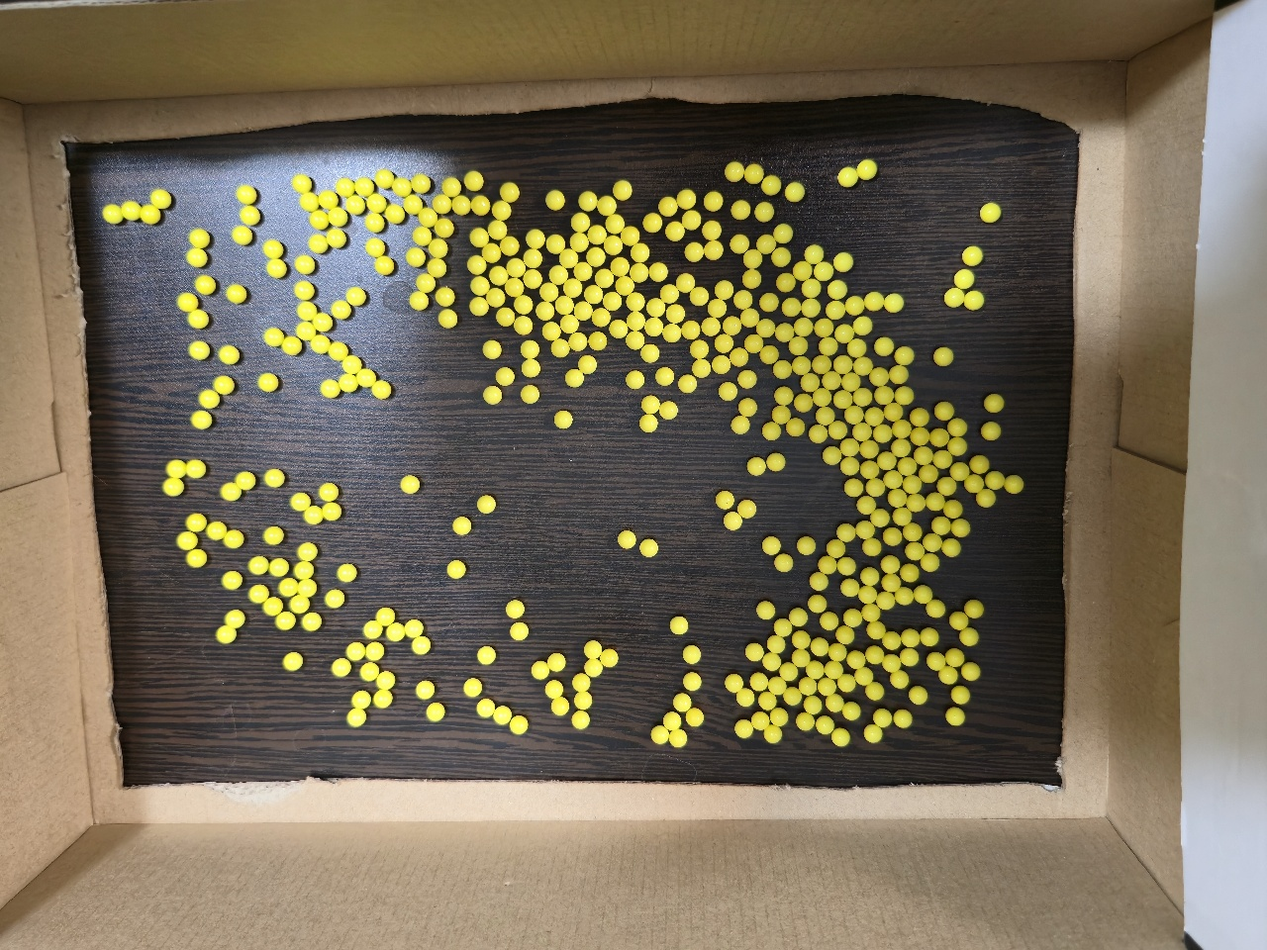yellow_bead: (221, 614, 241, 639), (193, 344, 206, 356), (154, 193, 167, 205), (296, 178, 308, 191), (861, 163, 873, 176), (301, 305, 313, 317), (420, 277, 432, 289), (837, 256, 849, 268), (267, 243, 279, 255), (422, 212, 434, 224), (244, 210, 256, 222), (389, 208, 401, 220), (984, 207, 996, 219), (407, 199, 419, 211), (349, 199, 361, 211), (842, 171, 854, 183), (252, 589, 265, 600), (181, 535, 194, 546), (210, 525, 223, 536), (195, 415, 208, 426), (203, 394, 216, 405), (218, 380, 231, 391), (223, 349, 236, 360), (193, 233, 206, 244), (350, 712, 362, 723), (355, 695, 367, 706), (377, 693, 388, 705), (287, 656, 299, 667), (329, 594, 341, 605), (227, 575, 239, 586), (252, 560, 264, 571), (301, 546, 313, 557), (267, 530, 279, 541), (307, 510, 319, 521), (323, 487, 335, 498), (262, 377, 274, 388), (345, 359, 357, 370), (333, 345, 344, 357), (314, 338, 326, 349), (317, 317, 329, 328), (192, 314, 204, 325), (968, 295, 980, 306), (414, 295, 425, 307), (948, 292, 960, 303), (439, 291, 450, 303), (475, 280, 486, 292), (958, 273, 969, 285), (553, 269, 564, 281), (378, 260, 390, 271), (299, 259, 311, 270), (191, 252, 203, 263), (410, 251, 421, 263), (608, 239, 619, 251), (761, 238, 772, 250), (550, 238, 561, 250), (369, 217, 380, 229), (107, 208, 118, 220), (759, 206, 770, 218), (602, 200, 613, 212), (371, 197, 382, 209), (241, 189, 252, 201), (446, 181, 457, 193), (359, 181, 370, 193), (468, 175, 479, 187), (379, 173, 390, 185), (293, 600, 306, 610), (294, 497, 307, 507), (225, 487, 238, 497), (304, 195, 314, 208), (467, 683, 478, 694), (380, 676, 391, 687), (350, 646, 361, 657), (416, 640, 427, 651), (390, 626, 401, 637), (367, 624, 378, 635), (274, 562, 285, 573), (817, 392, 828, 403), (879, 390, 890, 401), (361, 372, 372, 383), (525, 344, 536, 355), (879, 341, 890, 352), (648, 322, 659, 333), (857, 321, 868, 332), (518, 320, 529, 331), (670, 309, 681, 320), (830, 305, 841, 316), (806, 303, 817, 314), (849, 300, 860, 311), (559, 300, 570, 311), (889, 298, 900, 309), (869, 296, 880, 307), (607, 296, 618, 307), (490, 292, 501, 303), (694, 291, 705, 302), (350, 291, 361, 302), (832, 284, 843, 295), (567, 283, 578, 294), (509, 282, 520, 293), (493, 270, 504, 281), (818, 266, 829, 277), (271, 263, 282, 274), (511, 262, 522, 273), (615, 261, 626, 272), (471, 259, 482, 270), (563, 253, 574, 264), (776, 251, 787, 262), (967, 250, 978, 261), (809, 249, 820, 260), (486, 247, 497, 258), (689, 246, 700, 257), (370, 242, 381, 253), (504, 240, 515, 251), (734, 238, 745, 249), (313, 238, 324, 249), (331, 233, 342, 244), (474, 232, 485, 243), (237, 230, 248, 241), (670, 226, 681, 237), (707, 225, 718, 236), (492, 225, 503, 236), (610, 219, 621, 230), (647, 218, 658, 229), (735, 205, 746, 216), (504, 187, 515, 198), (766, 180, 777, 191), (416, 178, 427, 189), (306, 617, 318, 627), (267, 602, 279, 612), (298, 565, 310, 575), (228, 534, 240, 544), (404, 480, 416, 490), (268, 473, 280, 483), (190, 464, 202, 474), (375, 385, 387, 395), (286, 341, 298, 351), (300, 326, 312, 336), (631, 315, 641, 327), (182, 297, 194, 307), (231, 289, 243, 299), (528, 273, 538, 285), (433, 242, 443, 254), (333, 211, 343, 223), (497, 205, 507, 217), (126, 205, 136, 217), (663, 201, 673, 213), (749, 168, 759, 180), (190, 555, 203, 564), (167, 483, 180, 492), (576, 714, 586, 725), (497, 711, 508, 721), (364, 667, 375, 677), (589, 662, 599, 673), (370, 646, 380, 657), (409, 623, 419, 634), (510, 605, 521, 615), (282, 583, 293, 593), (341, 568, 352, 578), (451, 564, 461, 575), (327, 507, 338, 517), (481, 500, 492, 510), (240, 476, 251, 486), (170, 464, 181, 474), (903, 461, 913, 472), (869, 412, 880, 422), (849, 410, 859, 421), (663, 406, 674, 416), (806, 377, 816, 388), (827, 375, 837, 386), (659, 372, 670, 382), (500, 372, 511, 382), (778, 364, 788, 375), (857, 361, 868, 371), (838, 359, 848, 370), (717, 359, 727, 370), (583, 359, 593, 370), (939, 351, 949, 362), (900, 350, 910, 361), (487, 344, 497, 355), (851, 343, 862, 353), (794, 340, 804, 351), (719, 338, 730, 348), (573, 336, 583, 347), (268, 332, 279, 342), (799, 322, 809, 333), (442, 314, 453, 324), (501, 312, 511, 323), (578, 306, 588, 317), (540, 306, 550, 317), (336, 305, 346, 316), (713, 303, 723, 314), (650, 303, 661, 313), (787, 302, 797, 313), (474, 301, 484, 312), (764, 297, 774, 308), (589, 289, 599, 300), (544, 287, 554, 298), (720, 285, 730, 296), (807, 283, 817, 294), (621, 280, 631, 291), (600, 273, 610, 284), (634, 267, 644, 278), (578, 266, 588, 277), (798, 265, 808, 276), (432, 262, 442, 273), (748, 253, 758, 264), (528, 253, 538, 264), (591, 251, 601, 262), (635, 247, 645, 258), (709, 244, 719, 255), (417, 231, 428, 241), (592, 230, 603, 240), (778, 229, 789, 239), (439, 223, 449, 234), (687, 215, 697, 226), (145, 210, 156, 220), (456, 200, 466, 211), (709, 196, 719, 207), (583, 196, 593, 207), (550, 195, 560, 206), (682, 194, 692, 205), (790, 187, 800, 198), (618, 185, 628, 196), (397, 182, 407, 193), (730, 166, 740, 177), (190, 519, 202, 528), (437, 198, 446, 210), (199, 279, 212, 287), (739, 724, 749, 734), (820, 720, 830, 730), (514, 720, 524, 730), (878, 713, 888, 723), (774, 712, 784, 722), (481, 704, 491, 714), (555, 702, 565, 712), (788, 692, 798, 702), (914, 691, 924, 701), (549, 685, 559, 695), (772, 681, 782, 691), (895, 675, 905, 685), (784, 667, 794, 677), (336, 663, 346, 673), (767, 657, 777, 667), (482, 651, 492, 661), (687, 650, 697, 660), (588, 645, 598, 655), (515, 626, 525, 636), (674, 620, 684, 630), (761, 606, 771, 616), (865, 572, 875, 582), (841, 561, 851, 571), (886, 560, 896, 570), (911, 546, 921, 556), (644, 543, 654, 553), (802, 541, 812, 551), (457, 521, 467, 531), (898, 512, 908, 522), (862, 501, 872, 511), (930, 497, 940, 507), (871, 483, 881, 493), (849, 483, 859, 493), (908, 480, 918, 490), (955, 467, 965, 477), (865, 465, 875, 475), (845, 461, 855, 471), (771, 457, 781, 467), (882, 456, 892, 466), (938, 454, 948, 464), (897, 443, 907, 453), (845, 442, 855, 452), (878, 428, 888, 438), (814, 428, 824, 438), (857, 427, 867, 437), (558, 415, 568, 425), (743, 403, 753, 413), (838, 395, 848, 405), (858, 392, 868, 402), (900, 391, 910, 401), (779, 391, 789, 401), (488, 391, 498, 401), (526, 390, 536, 400), (683, 379, 693, 389), (343, 378, 353, 388), (846, 377, 856, 387), (570, 373, 580, 383), (875, 372, 885, 382), (894, 369, 904, 379), (697, 363, 707, 373), (526, 363, 536, 373), (818, 360, 828, 370), (734, 352, 744, 362), (645, 348, 655, 358), (695, 344, 705, 354), (555, 343, 565, 353), (749, 339, 759, 349), (839, 329, 849, 339), (546, 326, 556, 336), (614, 324, 624, 334), (706, 322, 716, 332), (745, 313, 755, 323), (597, 313, 607, 323), (519, 300, 529, 310), (738, 295, 748, 305), (665, 289, 675, 299), (681, 278, 691, 288), (653, 267, 663, 277), (530, 234, 540, 244), (476, 200, 486, 210), (655, 729, 664, 740), (809, 700, 818, 711), (579, 695, 588, 706), (577, 678, 586, 689), (828, 666, 839, 675), (536, 665, 545, 676), (380, 612, 391, 621), (302, 584, 313, 593), (919, 450, 928, 461), (828, 450, 837, 461), (798, 360, 807, 371), (728, 321, 737, 332), (631, 297, 640, 308), (782, 277, 791, 288), (576, 217, 584, 229), (674, 733, 683, 743), (836, 732, 845, 742), (768, 730, 778, 739), (756, 716, 765, 726), (668, 716, 677, 726), (898, 714, 908, 723), (950, 712, 960, 721), (431, 707, 440, 717), (678, 698, 687, 708), (763, 696, 772, 706), (741, 693, 750, 703), (730, 679, 739, 689), (755, 677, 764, 687), (859, 672, 869, 681), (966, 668, 976, 677), (811, 665, 820, 675), (552, 658, 561, 668), (931, 657, 941, 666), (950, 654, 960, 663), (905, 653, 915, 662), (605, 653, 614, 663), (750, 647, 759, 657), (816, 642, 825, 652), (772, 639, 781, 649), (797, 635, 806, 645), (906, 634, 916, 643), (965, 632, 974, 642), (779, 622, 788, 632), (848, 614, 858, 623), (794, 613, 804, 622), (813, 600, 823, 609), (881, 597, 891, 606), (863, 591, 873, 600), (846, 583, 855, 593), (815, 577, 824, 587), (780, 558, 789, 568), (832, 544, 841, 554), (868, 542, 877, 552), (927, 538, 937, 547), (841, 528, 851, 537), (860, 525, 870, 534), (912, 499, 922, 508), (893, 494, 903, 503), (942, 482, 952, 491), (970, 479, 979, 489), (889, 476, 899, 485), (751, 462, 761, 471), (865, 444, 874, 454), (767, 427, 777, 436), (821, 412, 830, 422), (777, 410, 786, 420), (890, 407, 899, 417), (646, 400, 655, 410), (989, 399, 999, 408), (800, 398, 809, 408), (724, 387, 733, 397), (631, 375, 640, 385), (743, 374, 752, 384), (824, 341, 833, 351), (594, 336, 603, 346), (631, 335, 640, 345), (780, 328, 790, 337), (686, 326, 696, 335), (761, 324, 771, 333), (301, 286, 310, 296), (748, 274, 757, 284), (626, 231, 635, 241), (324, 194, 333, 204), (423, 685, 431, 696), (574, 237, 582, 248), (340, 182, 348, 193), (869, 729, 878, 738), (691, 713, 700, 722), (847, 707, 856, 716), (830, 699, 839, 708), (871, 687, 880, 696), (822, 683, 831, 692), (842, 679, 851, 688), (688, 678, 697, 687), (888, 659, 897, 668), (852, 656, 861, 665), (797, 654, 806, 663), (925, 633, 934, 642), (841, 631, 850, 640), (872, 626, 881, 635), (825, 617, 834, 626), (931, 605, 940, 614), (901, 592, 910, 601), (906, 569, 915, 578), (926, 558, 935, 567), (947, 543, 956, 552), (767, 541, 776, 550), (623, 535, 632, 544), (889, 532, 898, 541), (909, 528, 918, 537), (743, 505, 752, 514), (982, 494, 991, 503), (976, 460, 985, 469), (953, 442, 962, 451), (833, 426, 842, 435), (736, 421, 745, 430), (644, 419, 653, 428), (940, 407, 949, 416), (765, 350, 774, 359), (820, 323, 829, 332), (801, 718, 811, 726), (870, 652, 880, 660), (283, 616, 291, 626), (875, 514, 885, 522), (925, 469, 933, 479), (328, 384, 336, 394), (564, 319, 571, 330), (804, 683, 813, 691), (944, 672, 953, 680), (888, 637, 897, 645), (867, 609, 876, 617), (970, 606, 979, 614), (919, 591, 927, 600), (888, 579, 896, 588), (937, 522, 946, 530), (729, 517, 738, 525), (721, 496, 730, 504), (991, 477, 1000, 485), (937, 433, 945, 442), (987, 427, 996, 435), (953, 424, 962, 432), (792, 423, 801, 431), (916, 415, 925, 423), (951, 505, 958, 515), (667, 328, 674, 338), (834, 649, 842, 657), (824, 562, 832, 570), (1011, 481, 1019, 489), (899, 426, 907, 434), (956, 693, 965, 700), (958, 523, 965, 532), (314, 215, 321, 224), (954, 619, 964, 625), (918, 435, 925, 441), (1207, 580, 1211, 584), (1190, 513, 1192, 519), (1230, 554, 1231, 555), (329, 383, 330, 384)
